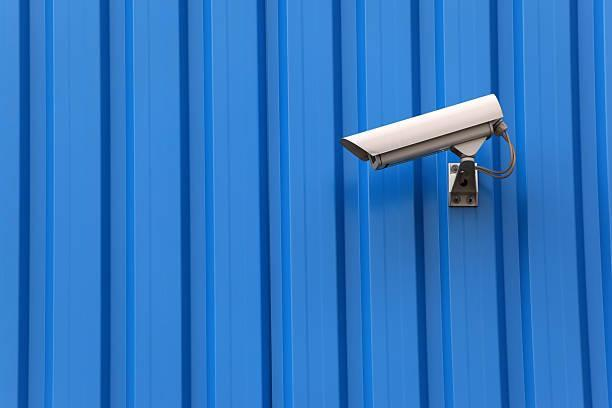camera: (333, 58, 527, 218)
